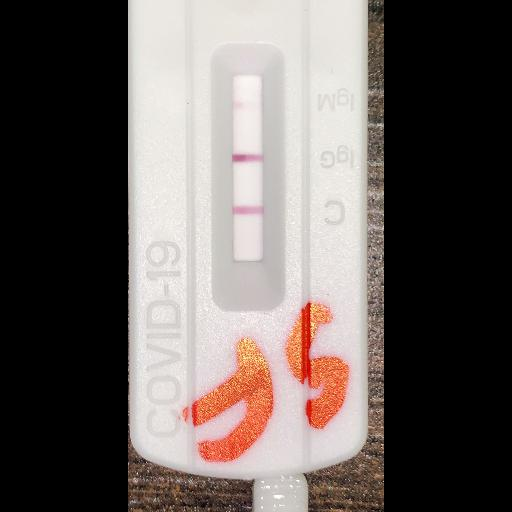Pos: (128, 0, 364, 480)
